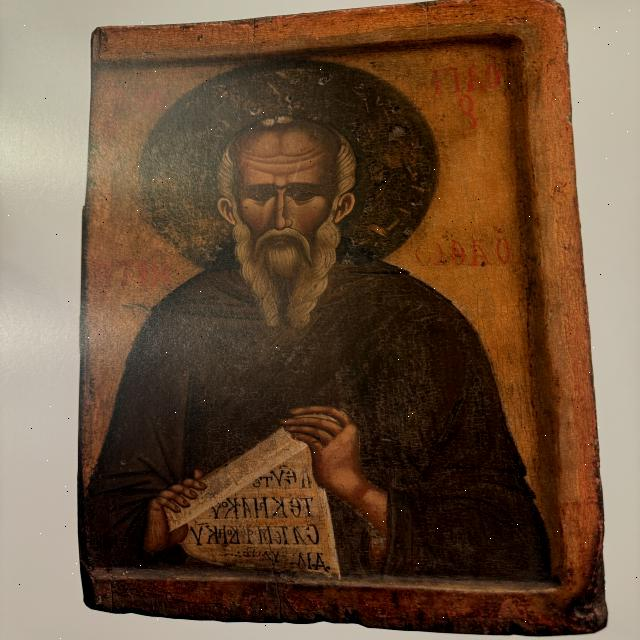aura: (134, 56, 443, 275)
saint: (92, 55, 541, 563)
scroll: (154, 395, 344, 576)
